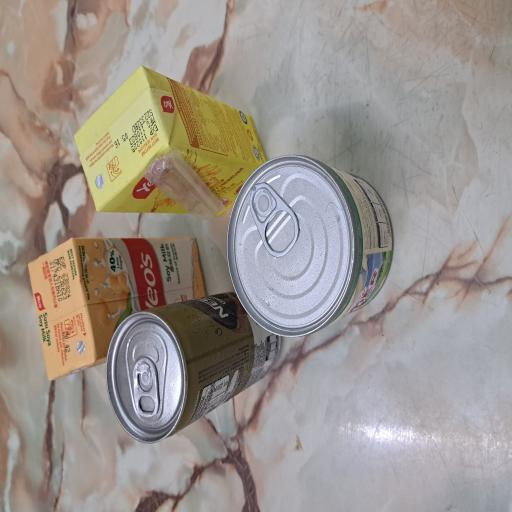can: (131, 302, 269, 512), (52, 140, 166, 372)
drink carton: (223, 98, 335, 352), (99, 36, 207, 279)
pop tab: (191, 332, 247, 402), (70, 174, 116, 214)
